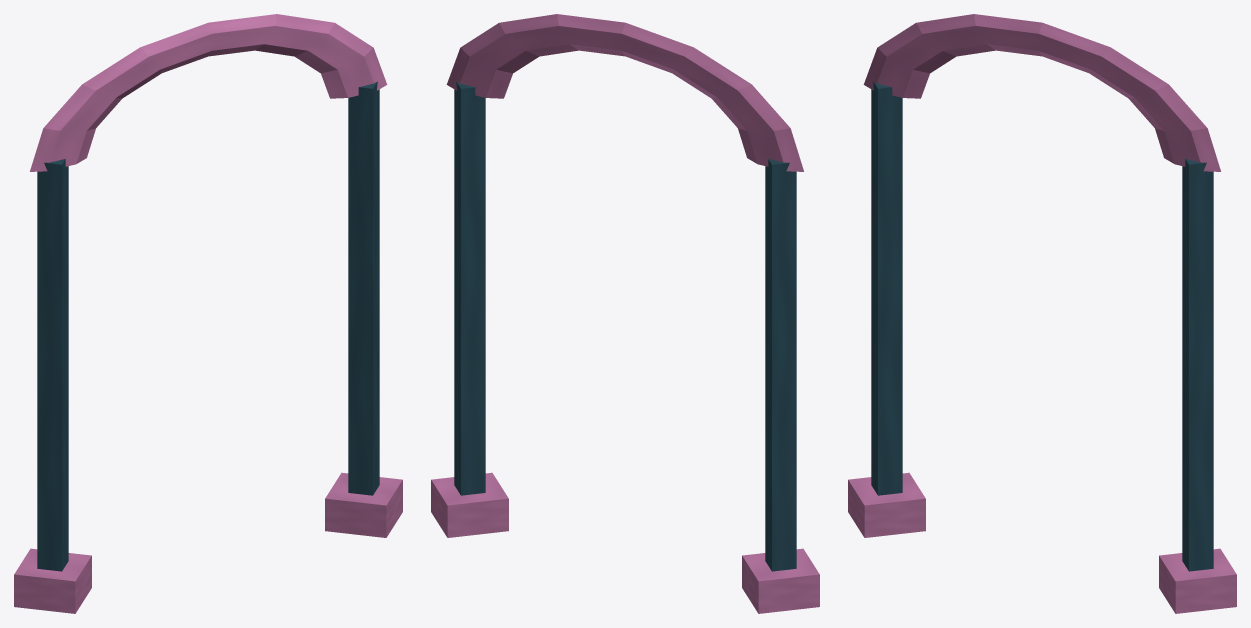
Rendered from atlas100-s061-a09.lod2.glb.
3 renders of one model, left to right at view 1: azimuth 30°, elevation 25°; view 2: azimuth 150°, elevation 25°; view 3: azimuth 330°, elevation 25°, orthographic.
Parts seen in each view (by area): view 1: atlas100-s061-a09:part-004, atlas100-s061-a09:part-000, atlas100-s061-a09:part-002, atlas100-s061-a09:part-003, atlas100-s061-a09:part-001; view 2: atlas100-s061-a09:part-004, atlas100-s061-a09:part-000, atlas100-s061-a09:part-002, atlas100-s061-a09:part-003, atlas100-s061-a09:part-001; view 3: atlas100-s061-a09:part-004, atlas100-s061-a09:part-002, atlas100-s061-a09:part-000, atlas100-s061-a09:part-001, atlas100-s061-a09:part-003.
Boxes of the visible parts, x1=… form: atlas100-s061-a09:part-004: x1=30, y1=14, x2=387, y2=171; atlas100-s061-a09:part-000: x1=37, y1=159, x2=68, y2=571; atlas100-s061-a09:part-002: x1=348, y1=81, x2=379, y2=495; atlas100-s061-a09:part-003: x1=325, y1=472, x2=402, y2=537; atlas100-s061-a09:part-001: x1=14, y1=548, x2=91, y2=613; atlas100-s061-a09:part-004: x1=446, y1=14, x2=803, y2=171; atlas100-s061-a09:part-000: x1=765, y1=159, x2=796, y2=571; atlas100-s061-a09:part-002: x1=454, y1=81, x2=485, y2=495; atlas100-s061-a09:part-003: x1=431, y1=472, x2=508, y2=537; atlas100-s061-a09:part-001: x1=742, y1=548, x2=819, y2=613; atlas100-s061-a09:part-004: x1=863, y1=14, x2=1220, y2=171; atlas100-s061-a09:part-002: x1=1182, y1=159, x2=1213, y2=571; atlas100-s061-a09:part-000: x1=871, y1=81, x2=902, y2=495; atlas100-s061-a09:part-001: x1=848, y1=472, x2=925, y2=537; atlas100-s061-a09:part-003: x1=1159, y1=548, x2=1236, y2=613.
Size of the model in its own units: 2.5 by 3.3 by 0.5.
2 materials, 2 textured.
